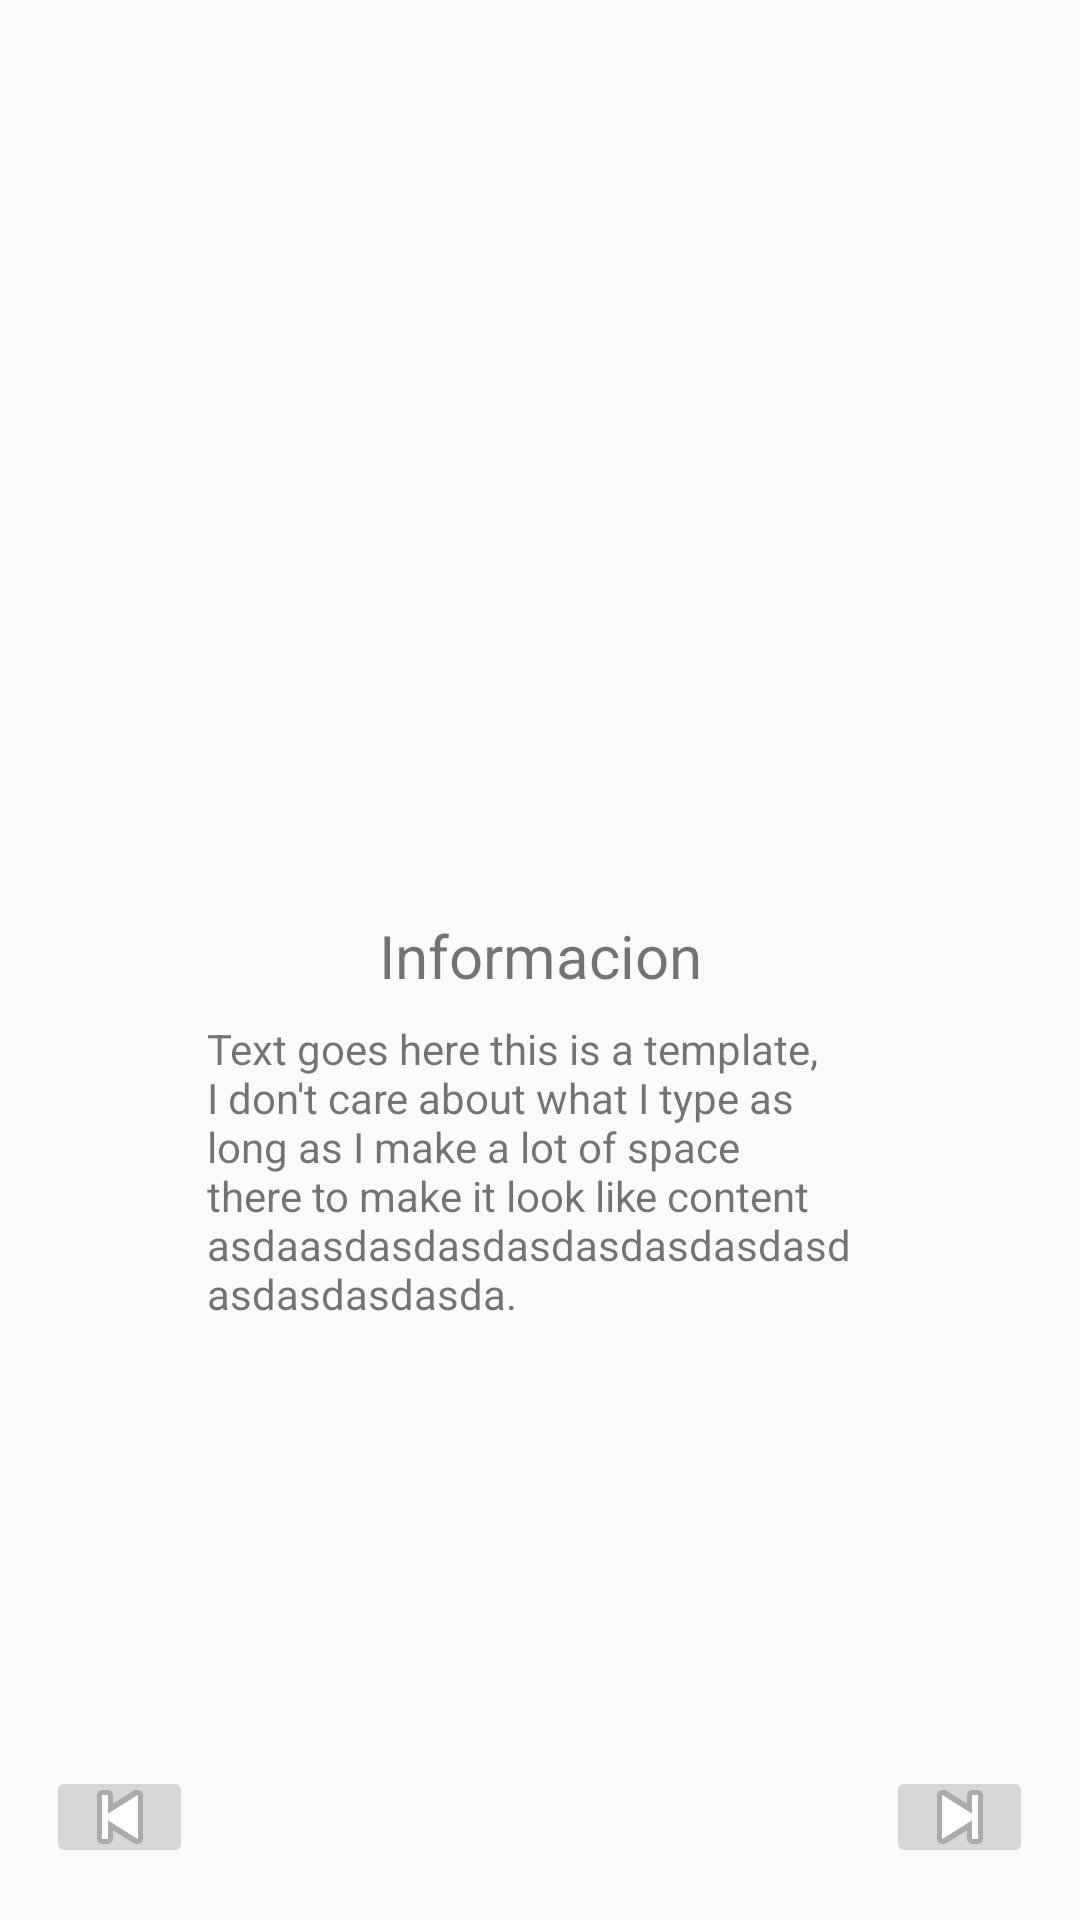

Screen size 1080px×1920px. Icon name, then its box in pixels as bbox=(x1, y1, x2, y2):
next: bbox=(898, 1784, 1021, 1850)
previous: bbox=(58, 1784, 181, 1850)
